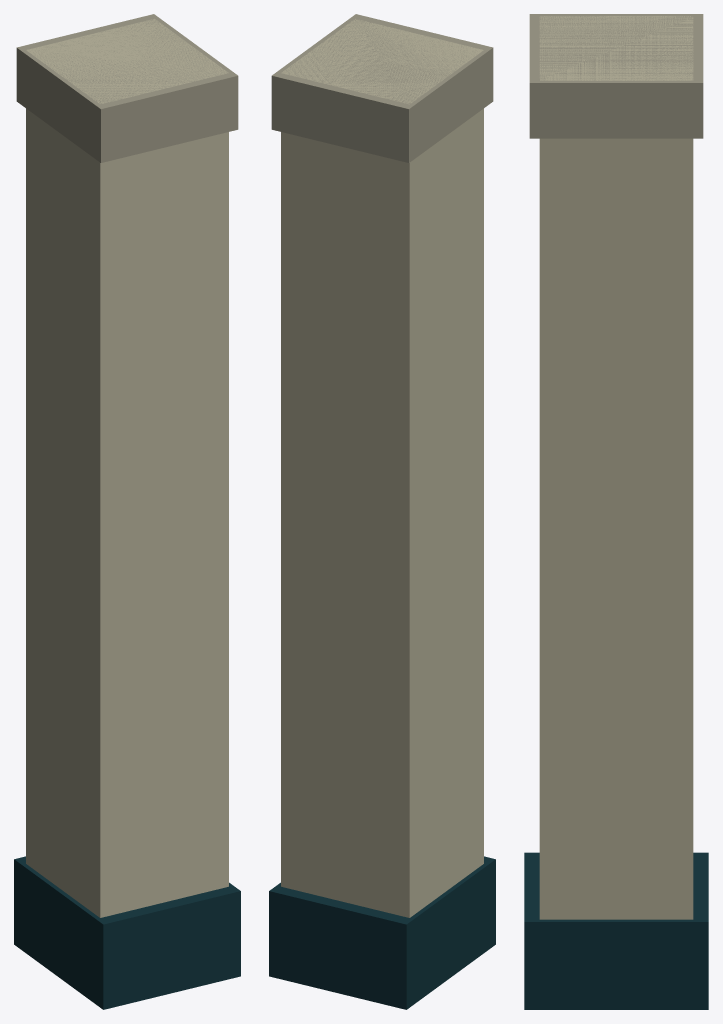
The model's file is WP_A07_wall_corner_v02.glb.
3 renders of one model, left to right at view 1: azimuth 30°, elevation 25°; view 2: azimuth 150°, elevation 25°; view 3: azimuth 270°, elevation 25°, orthographic. The views are drawn at different scales.
Visible parts, largest first — view 1: Corner; view 2: Corner; view 3: Corner.
Boxes of the visible parts, left/top/right/bottom form: Corner: left=14, top=14, right=240, bottom=1009; Corner: left=269, top=14, right=495, bottom=1009; Corner: left=524, top=14, right=708, bottom=1009.
Size of the model in its own units: 0.64 by 4 by 0.72.
